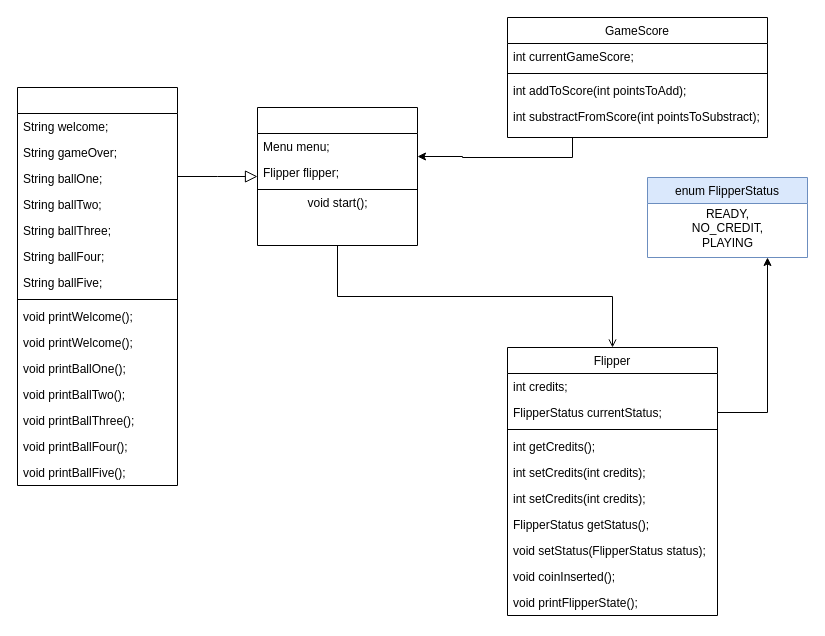
Image size: 825x636. Some labels were removed from this diagram. Here are the shapes that lost their labels. From the top down, the box of each, then its label:
(256, 106, 418, 246): Game
(16, 86, 178, 486): Menu
